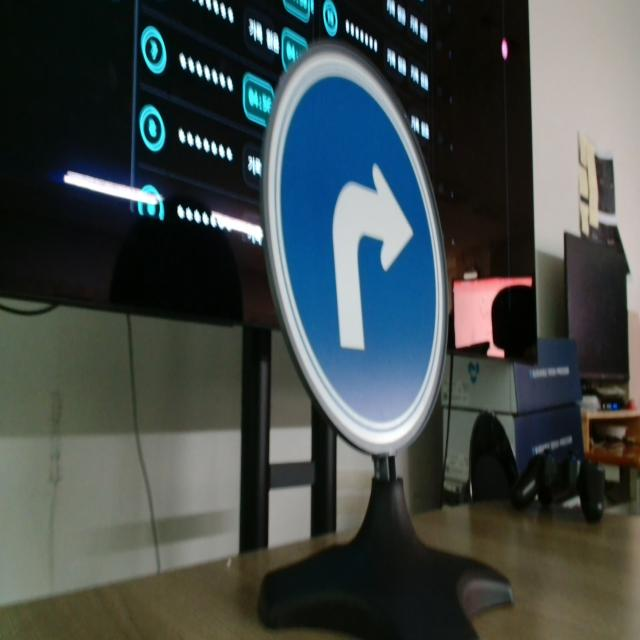right_dierection: (246, 43, 484, 506)
